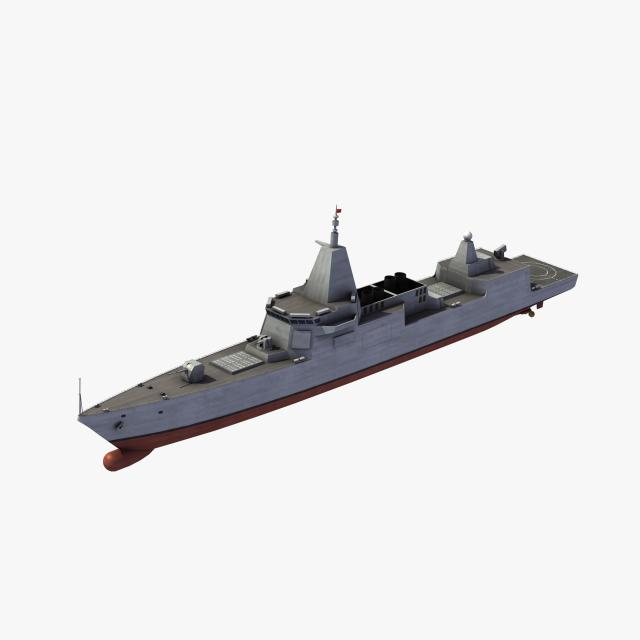Destroyer-Renhai-Class-055-CHI: (70, 200, 587, 486)
